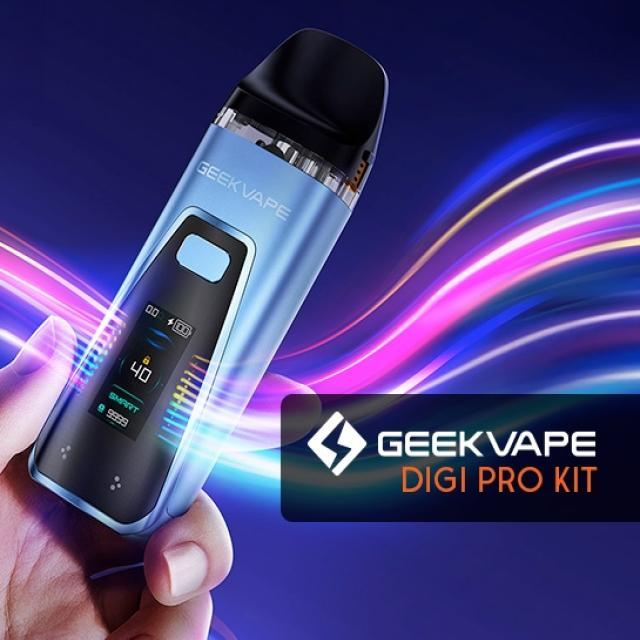Vapes: (26, 25, 390, 543)
